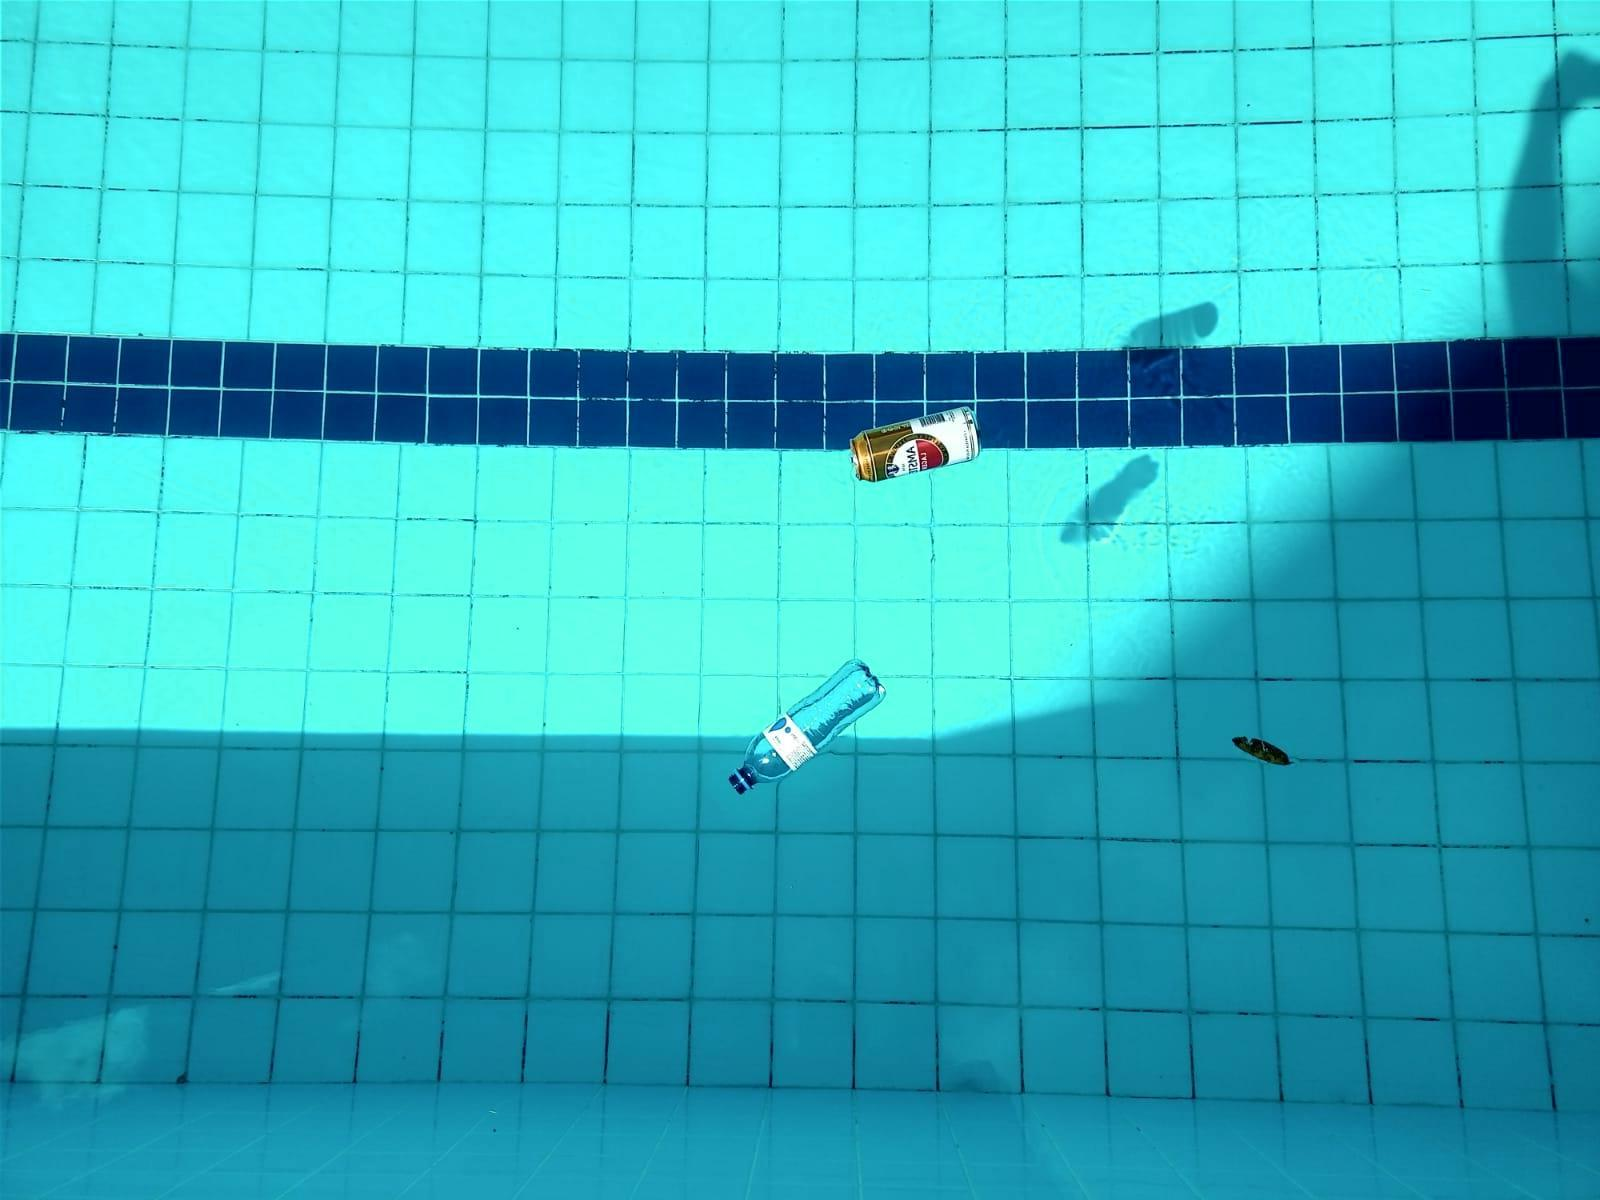Metal: (816, 353, 1019, 500)
Plastic: (712, 637, 886, 834)
